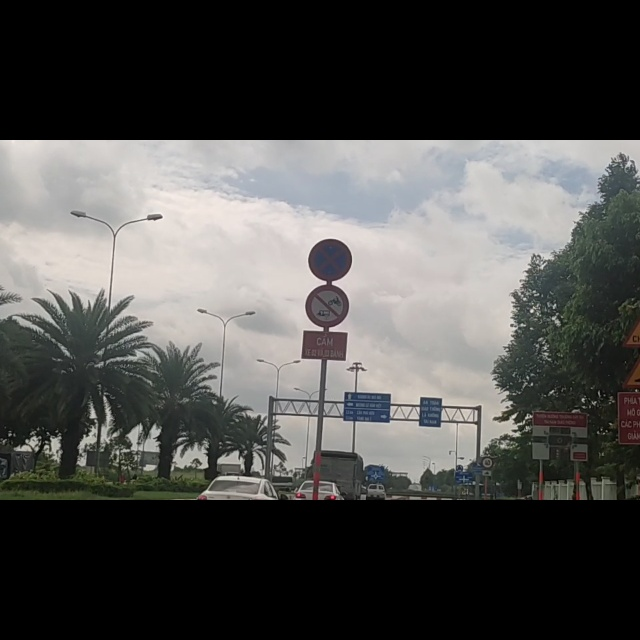bien_nguy_hiem: (304, 173, 354, 251), (304, 258, 350, 333)
